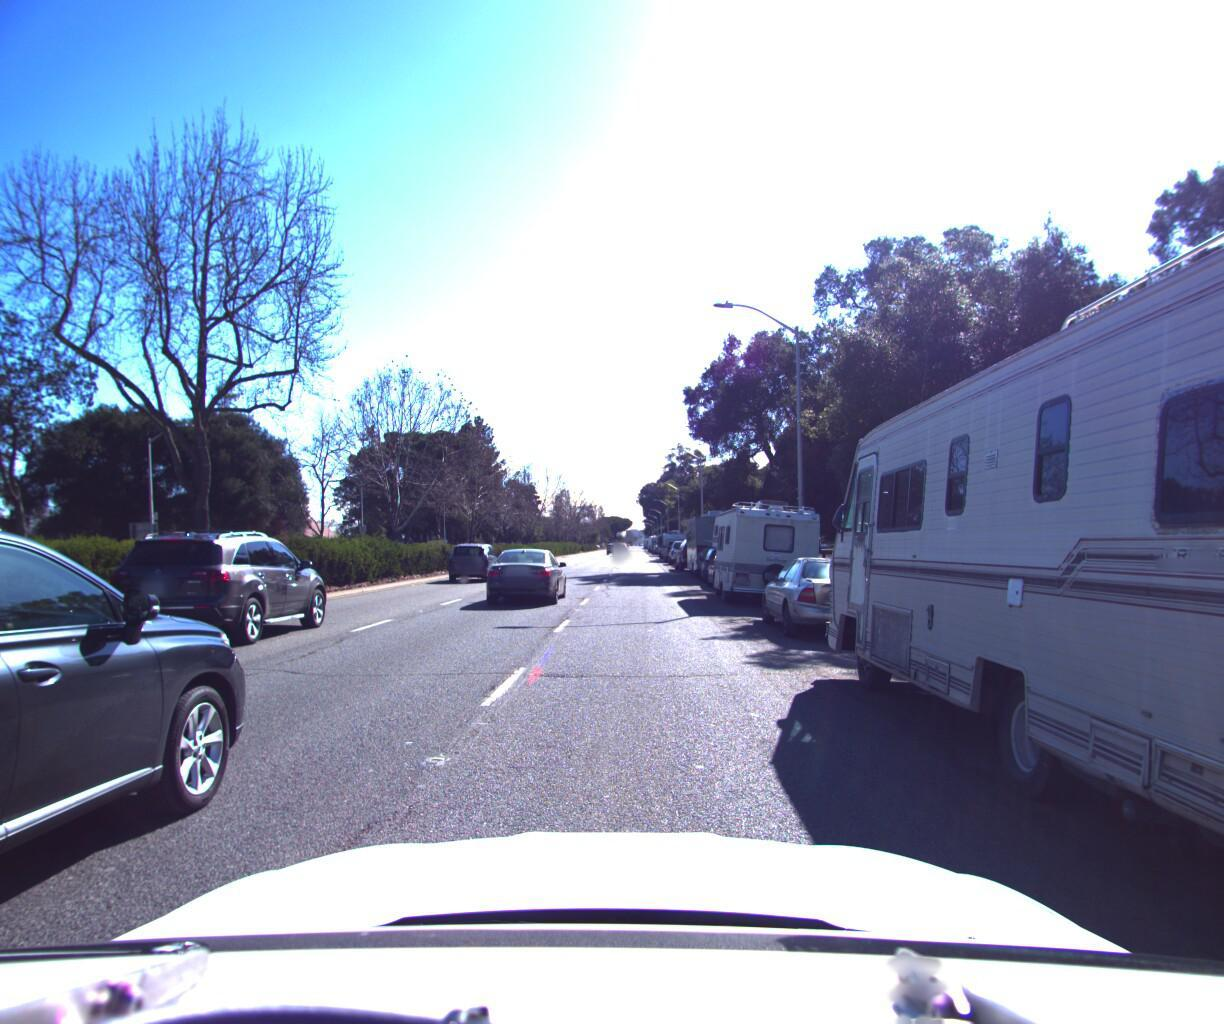car: (0, 471, 279, 1024), (109, 525, 344, 655), (750, 546, 914, 651), (483, 541, 574, 602), (699, 542, 770, 588), (443, 533, 507, 581), (691, 539, 748, 579), (669, 529, 718, 568), (663, 534, 701, 561)
other_vehicle: (811, 0, 1224, 1024), (703, 491, 830, 610), (680, 502, 753, 576), (659, 524, 689, 557)
